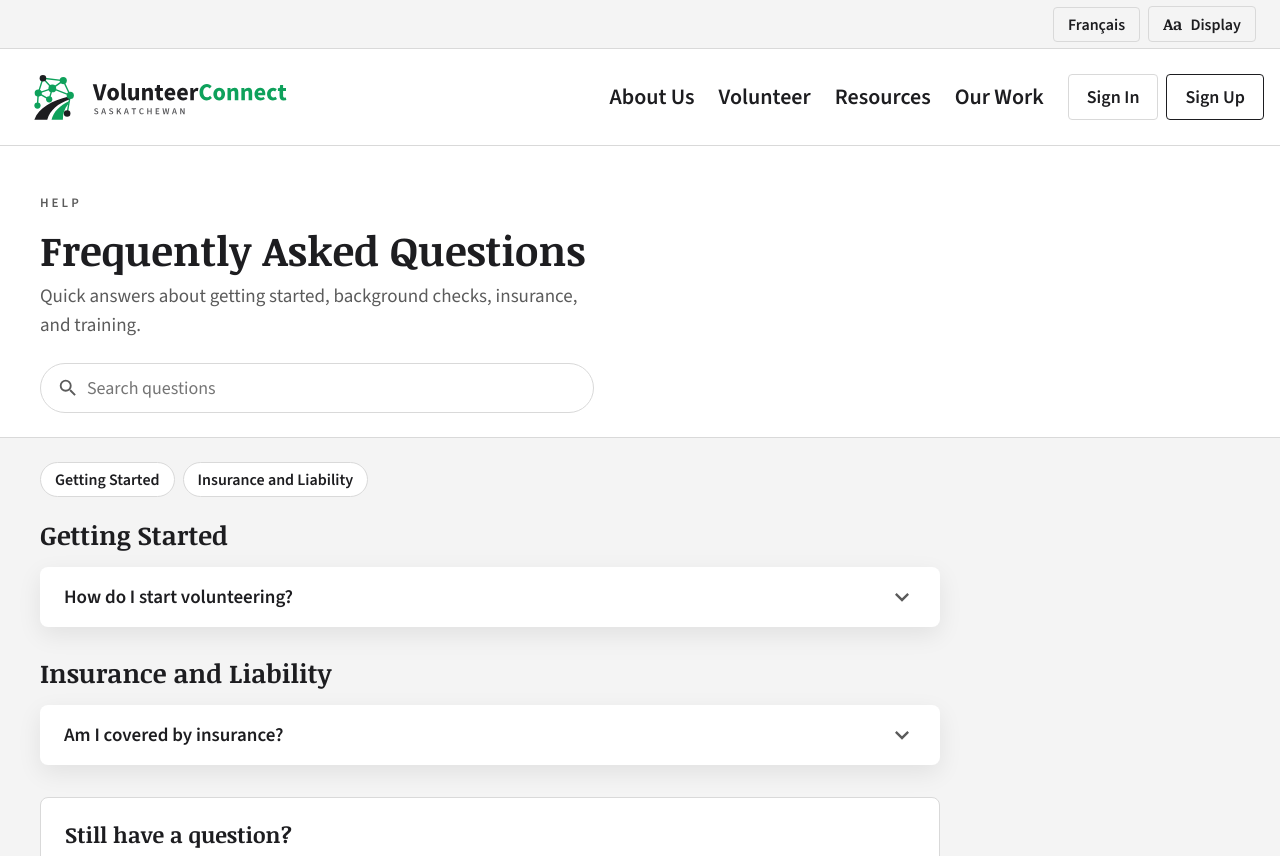
Test case: search keeps matching questions open and says when nothing matches
Expected: the text "How do I start volunteering?" is shown, [64, 584, 293, 610]
Type "insurance" into the search field labelled "Search questions".
click(332, 388); type("insurance")  # box [87, 364, 577, 412]
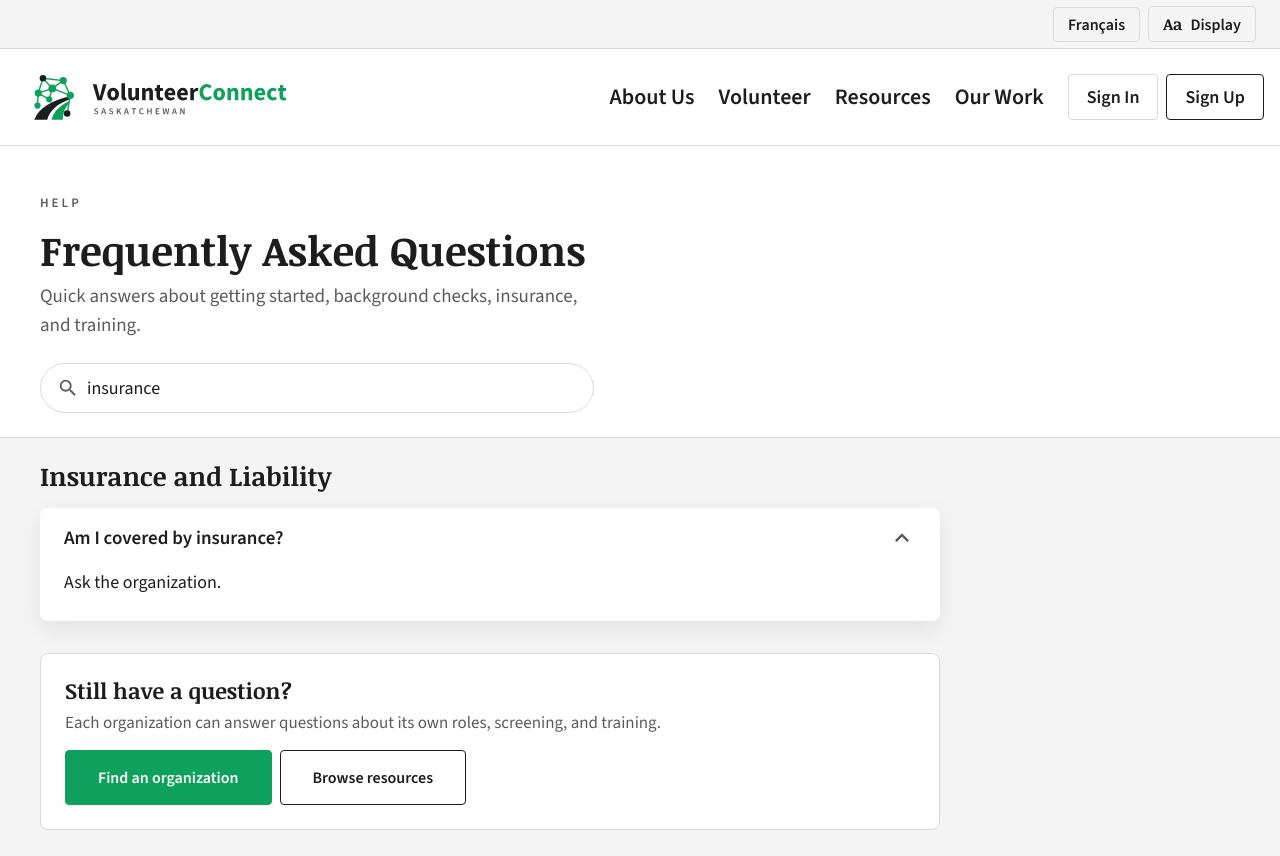
Expected: the heading "How do I start volunteering?" is gone
Expected: the text "Ask the organization." is shown, [64, 570, 221, 594]
Replace the text in the search field named "Search questions" with "parking" at (332, 388), box [87, 364, 577, 412]
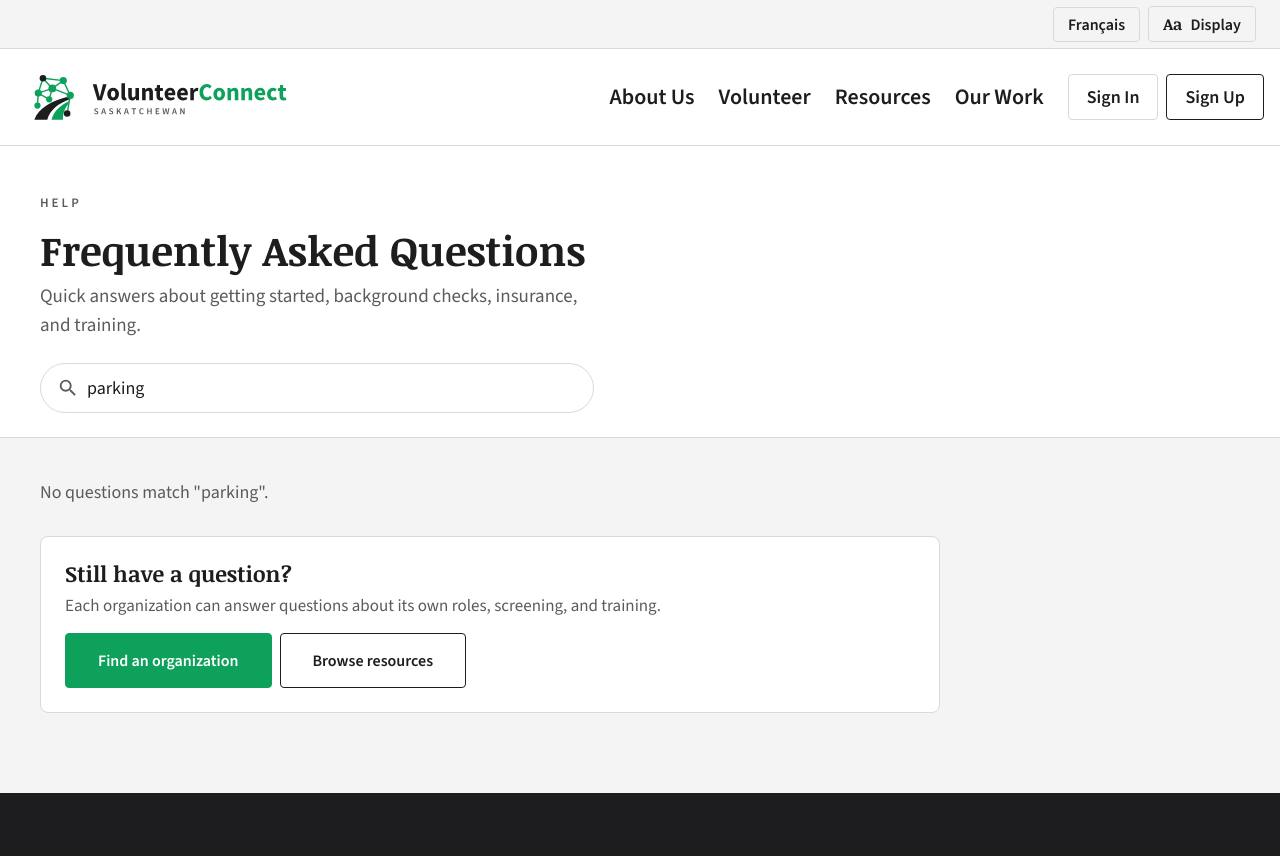
Expected: the message reads "No questions match \"parking\".", [40, 480, 268, 504]
